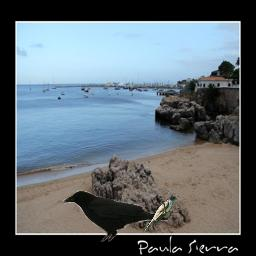Crow: (60, 188, 168, 242)
Cuckoo: (143, 196, 177, 233)
